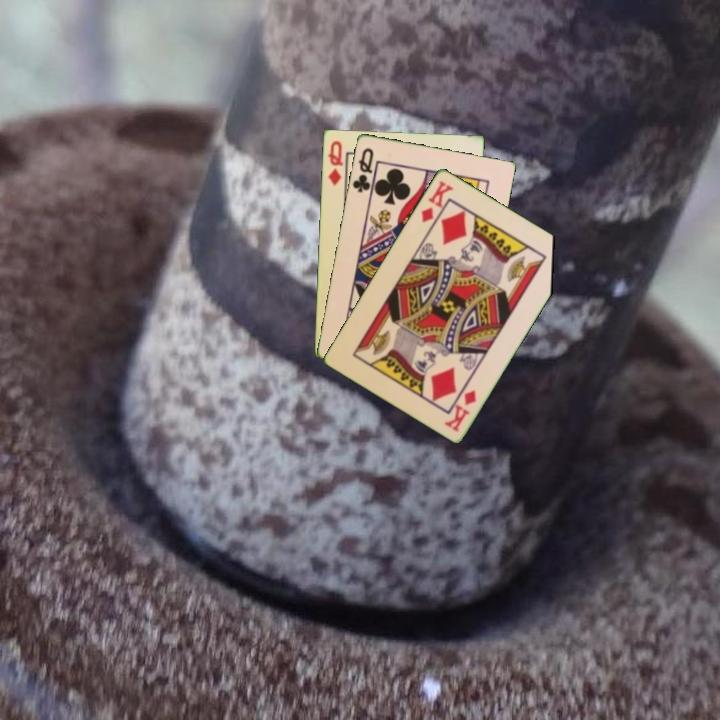Kd: (417, 176, 456, 225), (441, 386, 479, 434)
Qc: (349, 144, 379, 198)
Qd: (324, 137, 345, 188)
